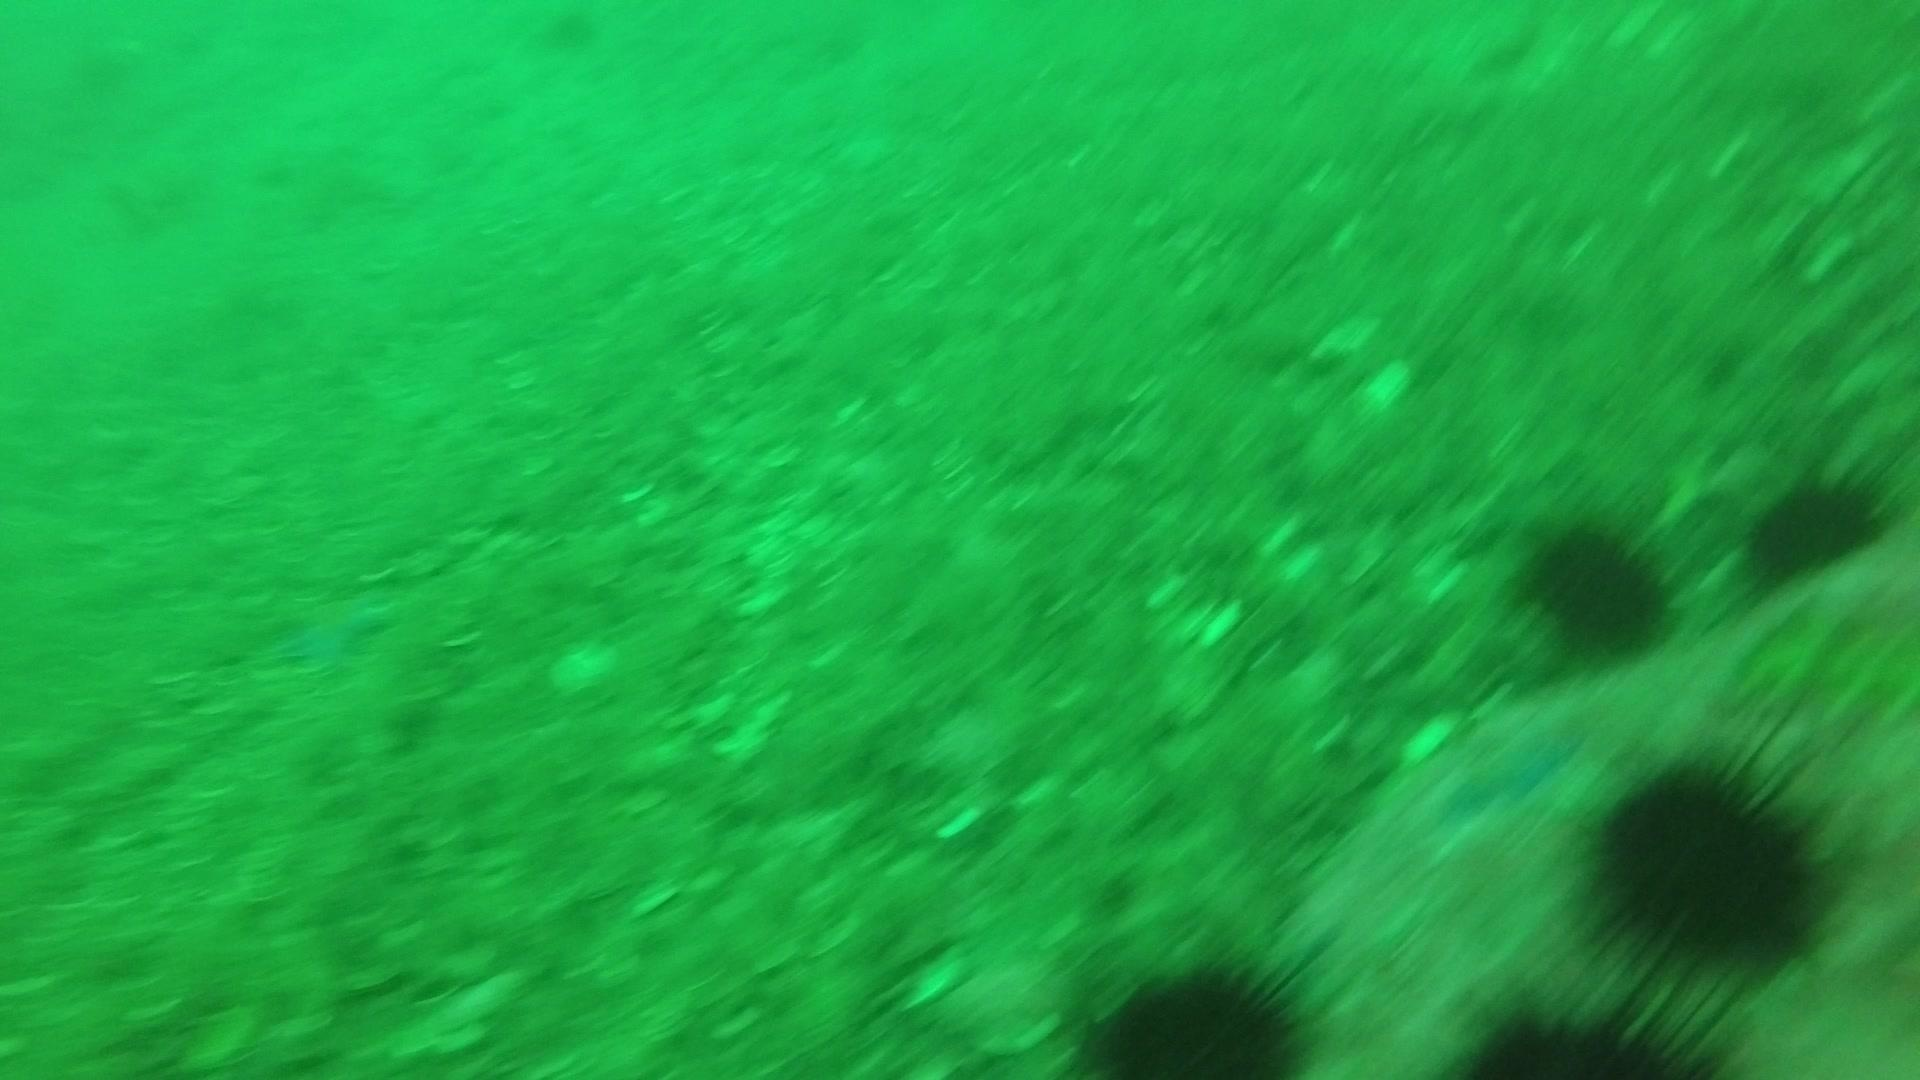echinus: (1575, 744, 1841, 976), (1075, 951, 1317, 1075), (1515, 514, 1681, 662), (1448, 993, 1731, 1077), (1735, 462, 1896, 588)
starfish: (1425, 707, 1582, 823), (269, 583, 398, 673)
